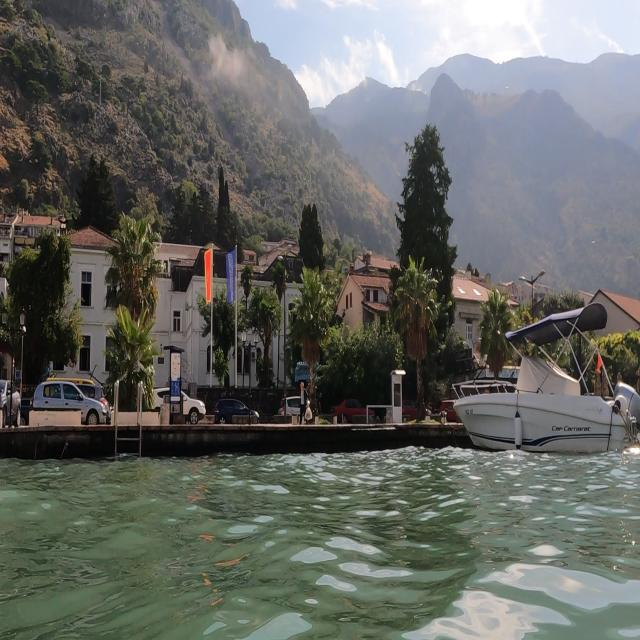boat: (451, 299, 638, 457)
